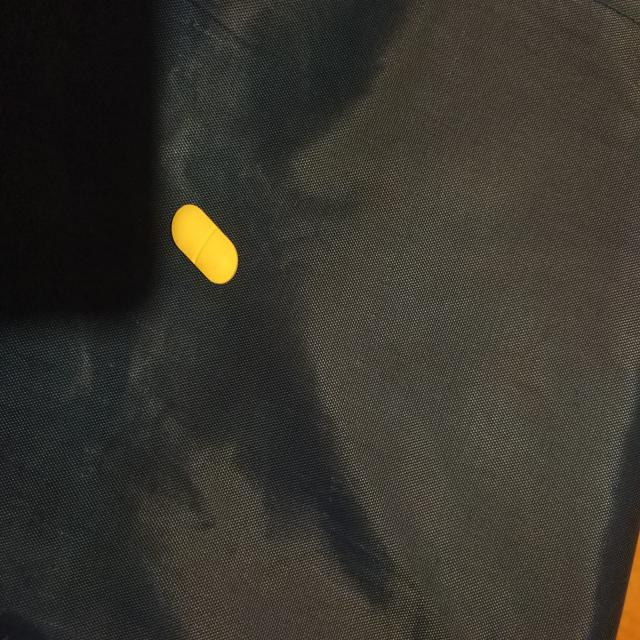pills: (166, 194, 244, 294)
